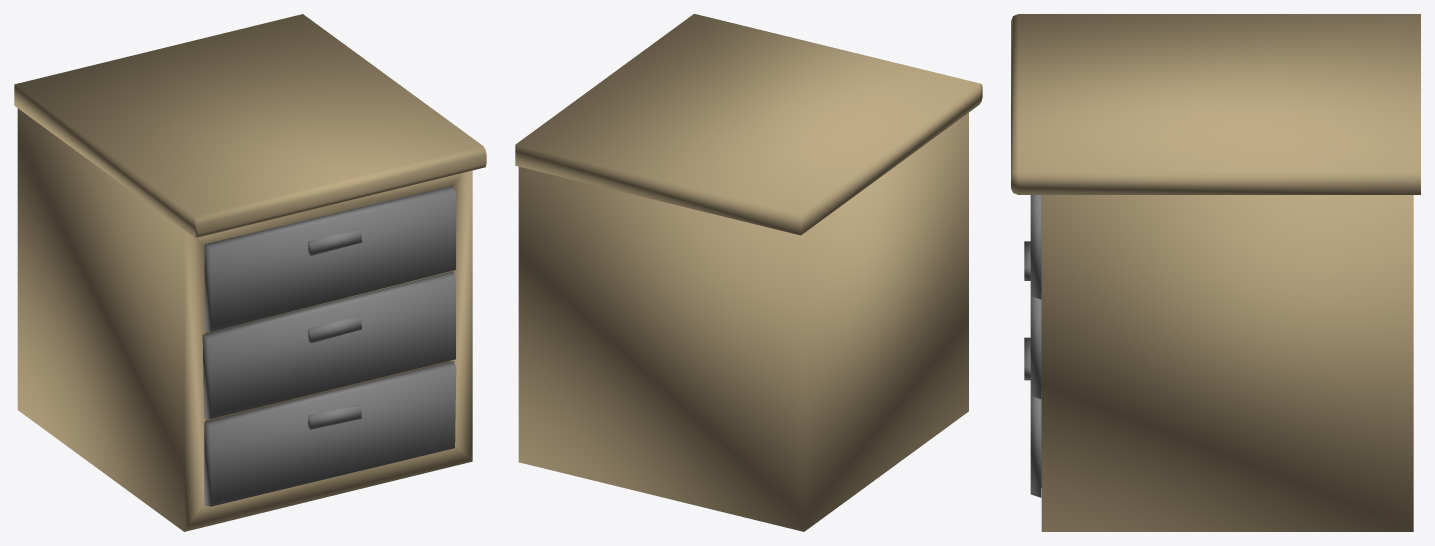
Rendered from encimera2Pivote.fbx.
3 views of the same model, side by side, from view 1: azimuth 30°, elevation 25°; view 2: azimuth 150°, elevation 25°; view 3: azimuth 270°, elevation 25° (orthographic). The views are drawn at different scales.
Visible parts, largest first — view 1: Commode; view 2: Commode; view 3: Commode.
Boxes of the visible parts, box(x1,y1,x2,y2) form: Commode: box(14, 14, 486, 531); Commode: box(515, 14, 982, 531); Commode: box(1011, 14, 1420, 531).
Size of the model in its own units: 88.61 by 96.64 by 97.67.
